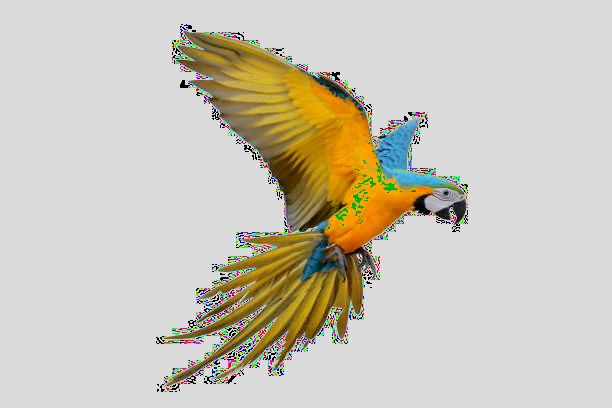Bird: (153, 24, 475, 399)
